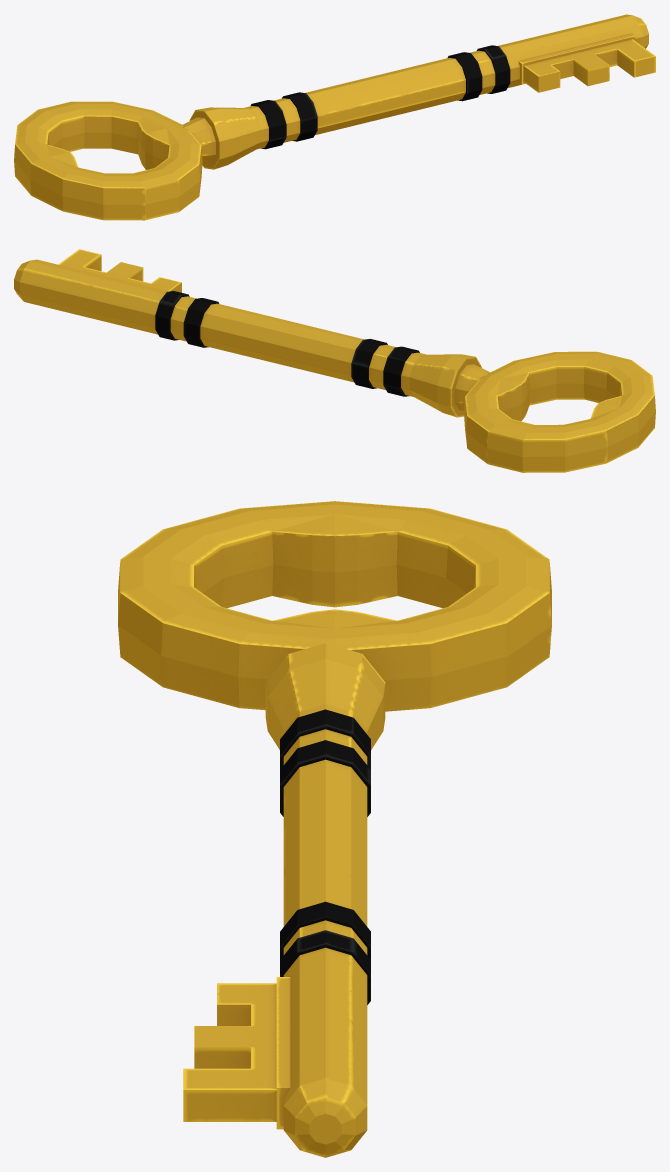
Rendered from stylized_fantasy_key.glb.
The picture shows the model from 3 angles, top to bottom: view 1: azimuth 30°, elevation 25°; view 2: azimuth 150°, elevation 25°; view 3: azimuth 270°, elevation 25°; orthographic projection. The views are drawn at different scales.
Visible parts, largest first — view 1: Object_2; view 2: Object_2; view 3: Object_2.
Part boxes in pixels (x1=…): Object_2: x1=14, y1=14, x2=655, y2=220; Object_2: x1=14, y1=249, x2=655, y2=472; Object_2: x1=118, y1=501, x2=551, y2=1157.
Bounding box in the file's own units: 235 × 20.9 × 72.07.
1 material, 1 textured.
